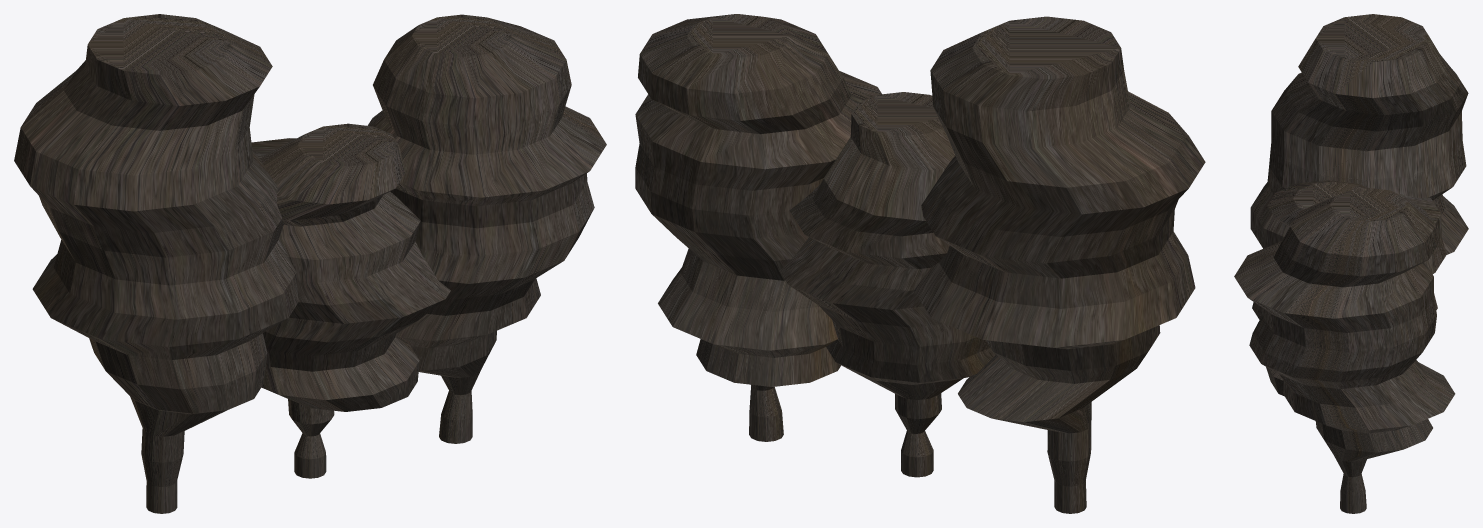
The model's file is pine_tree_01_lod3.glb.
3 views of the same model, side by side, from view 1: azimuth 30°, elevation 25°; view 2: azimuth 150°, elevation 25°; view 3: azimuth 270°, elevation 25° (orthographic). The views are drawn at different scales.
Visible parts, largest first — view 1: pine_tree_01_a_LOD0, pine_tree_01_c_LOD0, pine_tree_01_b_LOD0; view 2: pine_tree_01_a_LOD0, pine_tree_01_c_LOD0, pine_tree_01_b_LOD0; view 3: pine_tree_01_c_LOD0, pine_tree_01_a_LOD0, pine_tree_01_b_LOD0.
Boxes of the visible parts, box(x1,y1,x2,y2) form: pine_tree_01_a_LOD0: box(14, 14, 298, 513); pine_tree_01_c_LOD0: box(367, 14, 606, 443); pine_tree_01_b_LOD0: box(251, 123, 450, 478); pine_tree_01_a_LOD0: box(914, 16, 1205, 513); pine_tree_01_c_LOD0: box(635, 14, 881, 441); pine_tree_01_b_LOD0: box(779, 92, 995, 477); pine_tree_01_c_LOD0: box(1234, 188, 1455, 513); pine_tree_01_a_LOD0: box(1250, 14, 1468, 254); pine_tree_01_b_LOD0: box(1252, 180, 1446, 396).
Bounding box in the file's own units: 25.46 × 20.41 × 12.06.
1 material, 1 textured.
